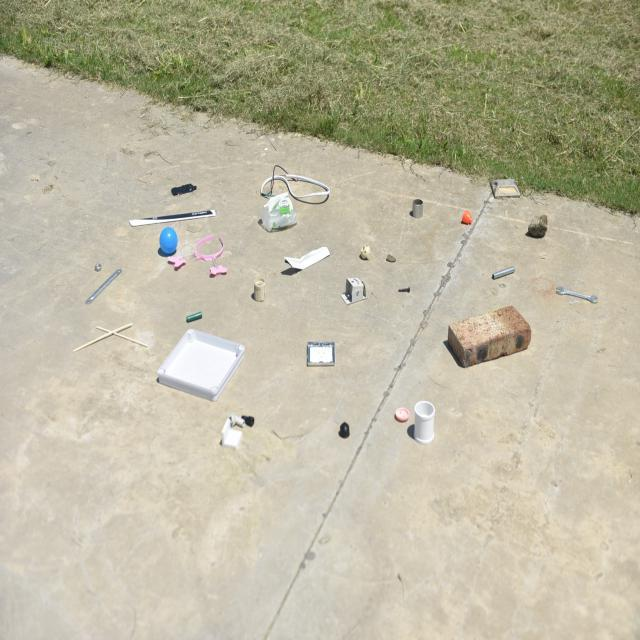Debris: (151, 332, 242, 404), (439, 306, 538, 369), (244, 159, 330, 230), (171, 232, 239, 286), (63, 317, 149, 358), (64, 263, 130, 306), (302, 329, 350, 383), (124, 206, 215, 231), (276, 243, 334, 276), (408, 394, 444, 447), (218, 413, 261, 456), (402, 192, 441, 227), (489, 168, 521, 210), (335, 275, 368, 315), (552, 280, 599, 308), (525, 212, 559, 248), (268, 426, 308, 450), (383, 241, 410, 276), (156, 223, 180, 257), (455, 203, 481, 234), (167, 176, 200, 198), (329, 420, 359, 442), (246, 280, 273, 304), (487, 262, 518, 282), (352, 236, 373, 262), (392, 280, 417, 300), (180, 309, 207, 327), (388, 401, 404, 426)
